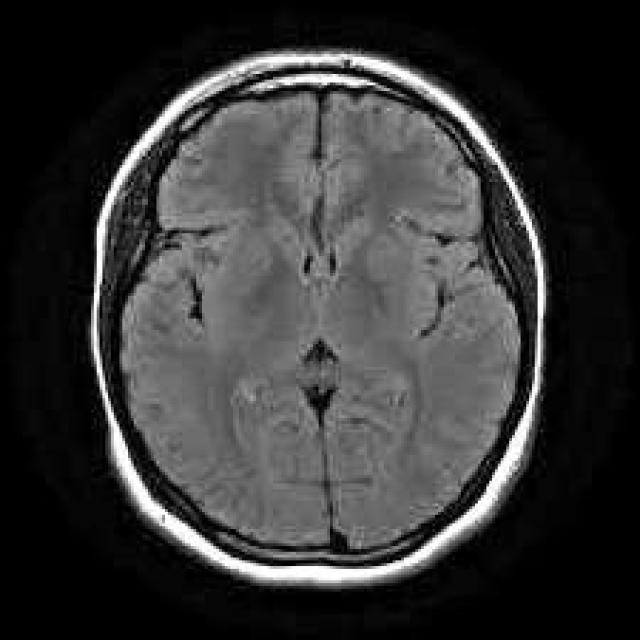notumor: (88, 51, 549, 594)
